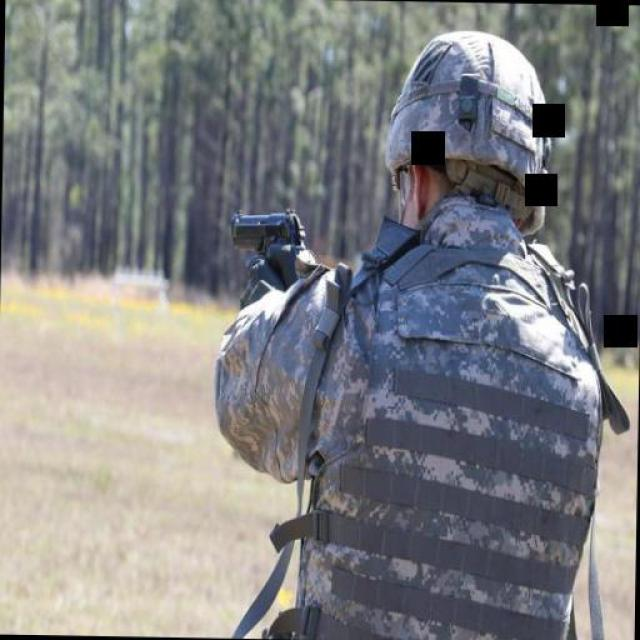gun: (222, 199, 306, 265)
